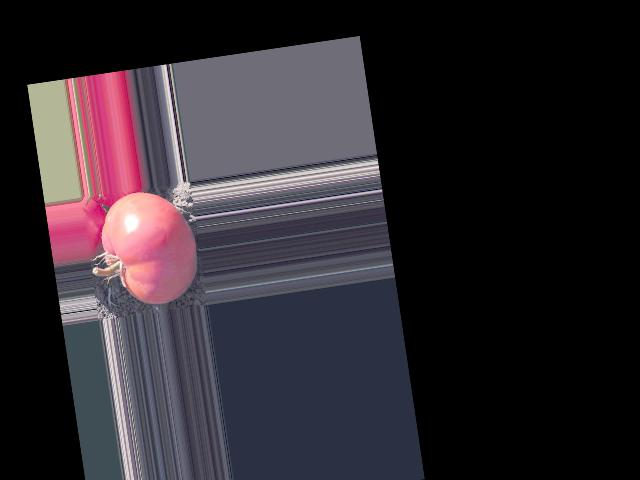tomato: (96, 185, 203, 311)
